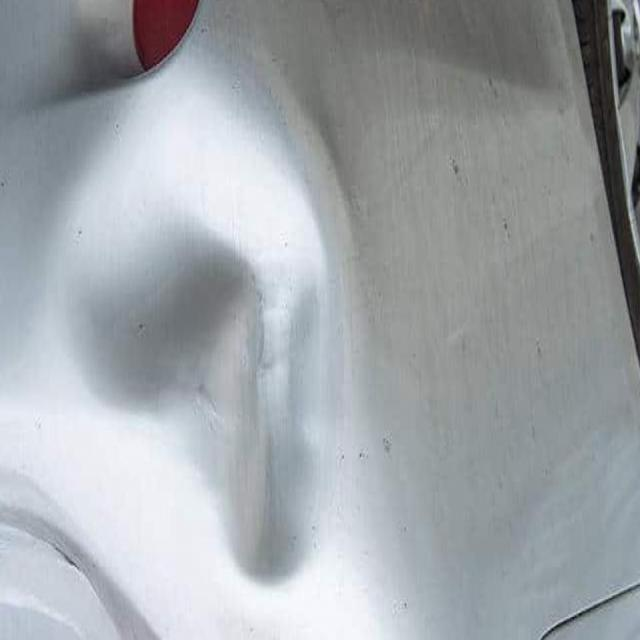dent: (59, 87, 352, 576)
